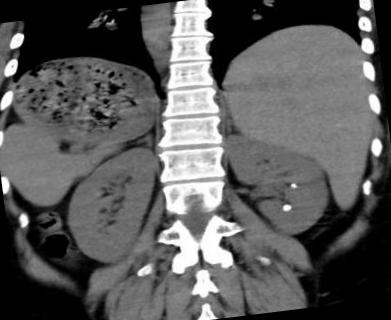Tas_Var: (278, 201, 296, 213), (284, 180, 302, 190)
